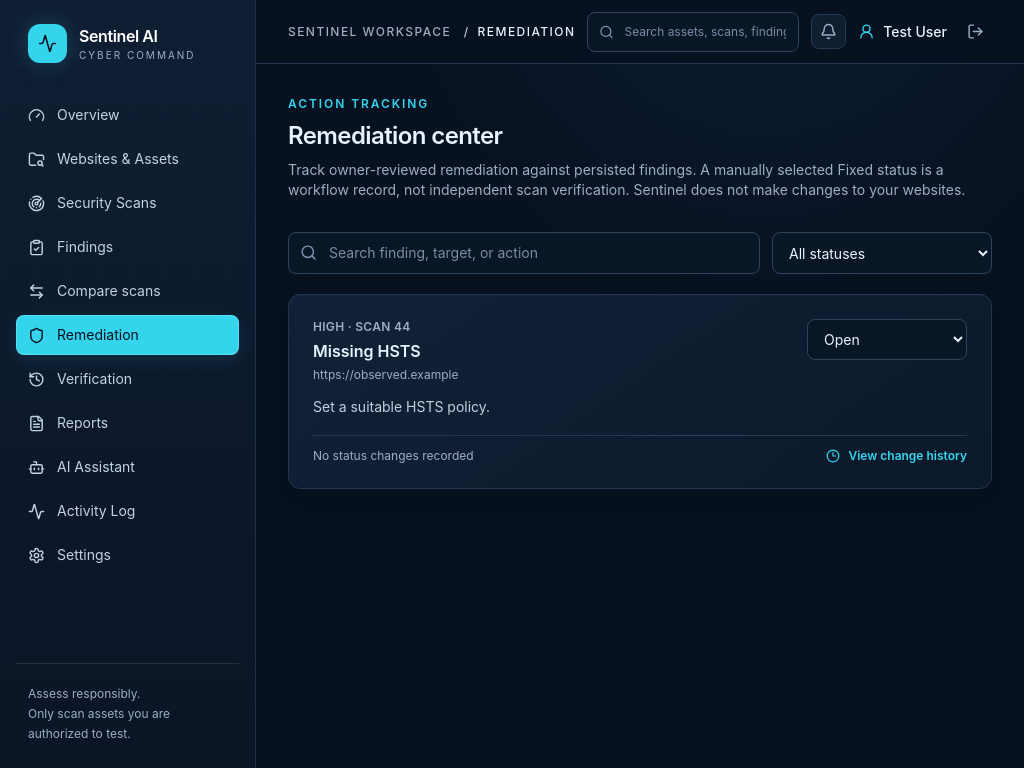
Test case: Sentinel AI application shell › updates a finding remediation status through the backend and shows its audit history
This screenshot has width=1024, height=768.
Select "In Progress" in the dropdown named "Status for Missing HSTS" at (887, 340), box [807,319,967,360]
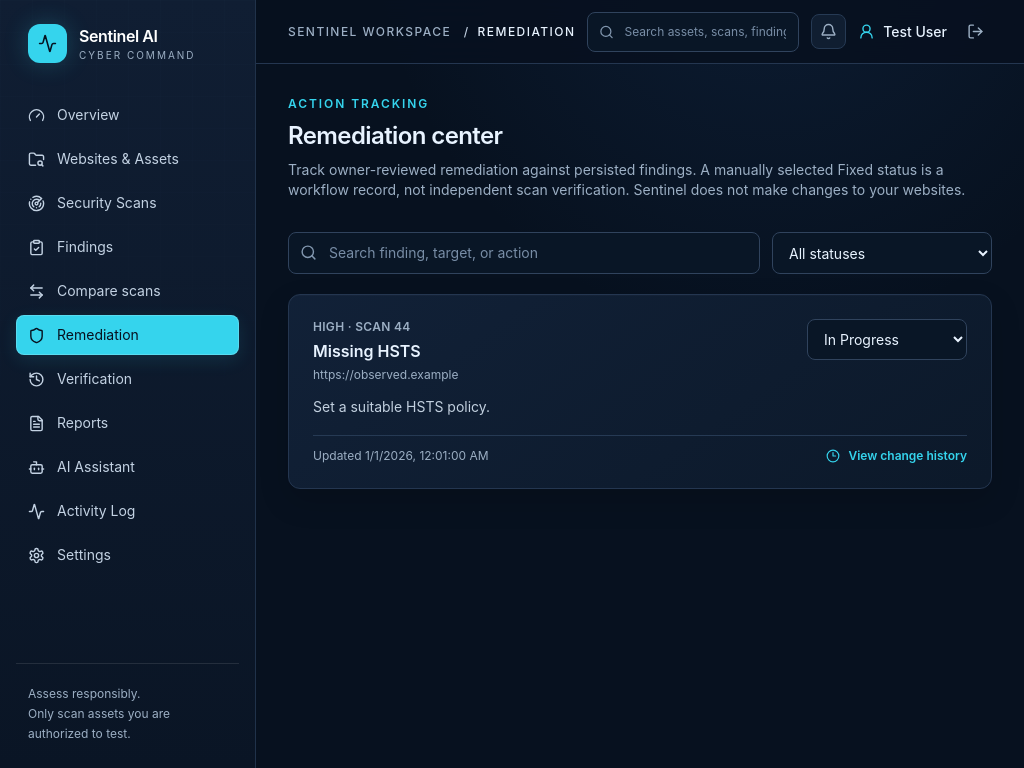
Click the button "View change history" at (897, 456), box [826,448,967,464]
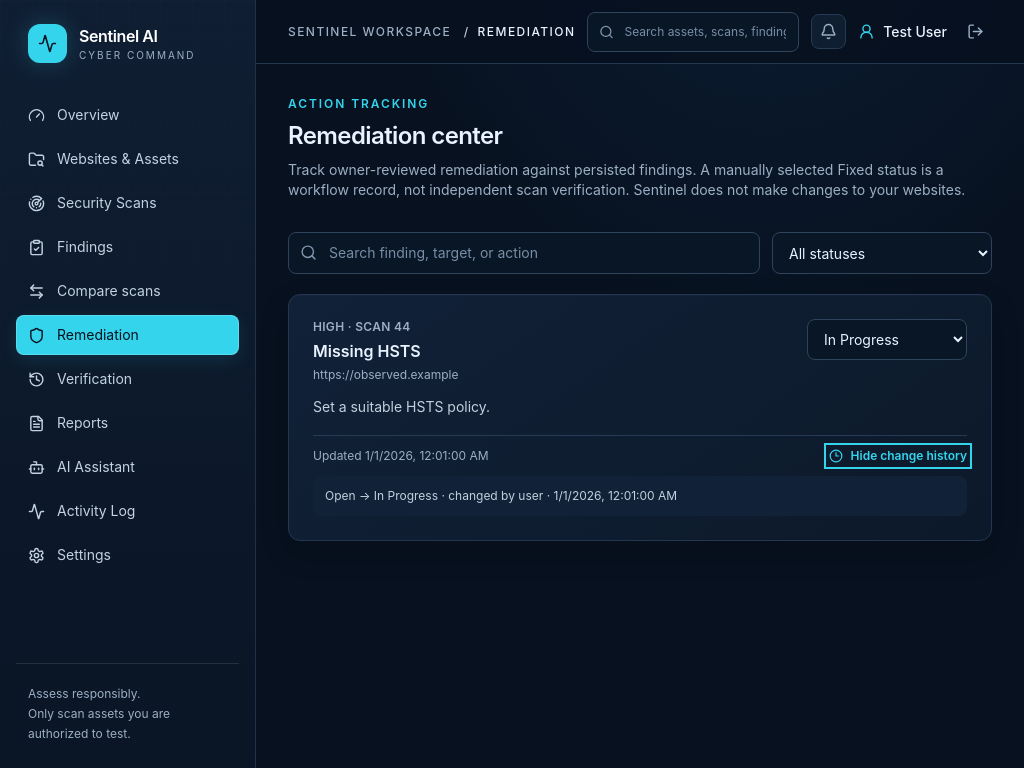
Expected: the text "Open → In Progress · changed by user · 1/1/2026, 12:01:00 AM" is shown, [313,476,967,516]
